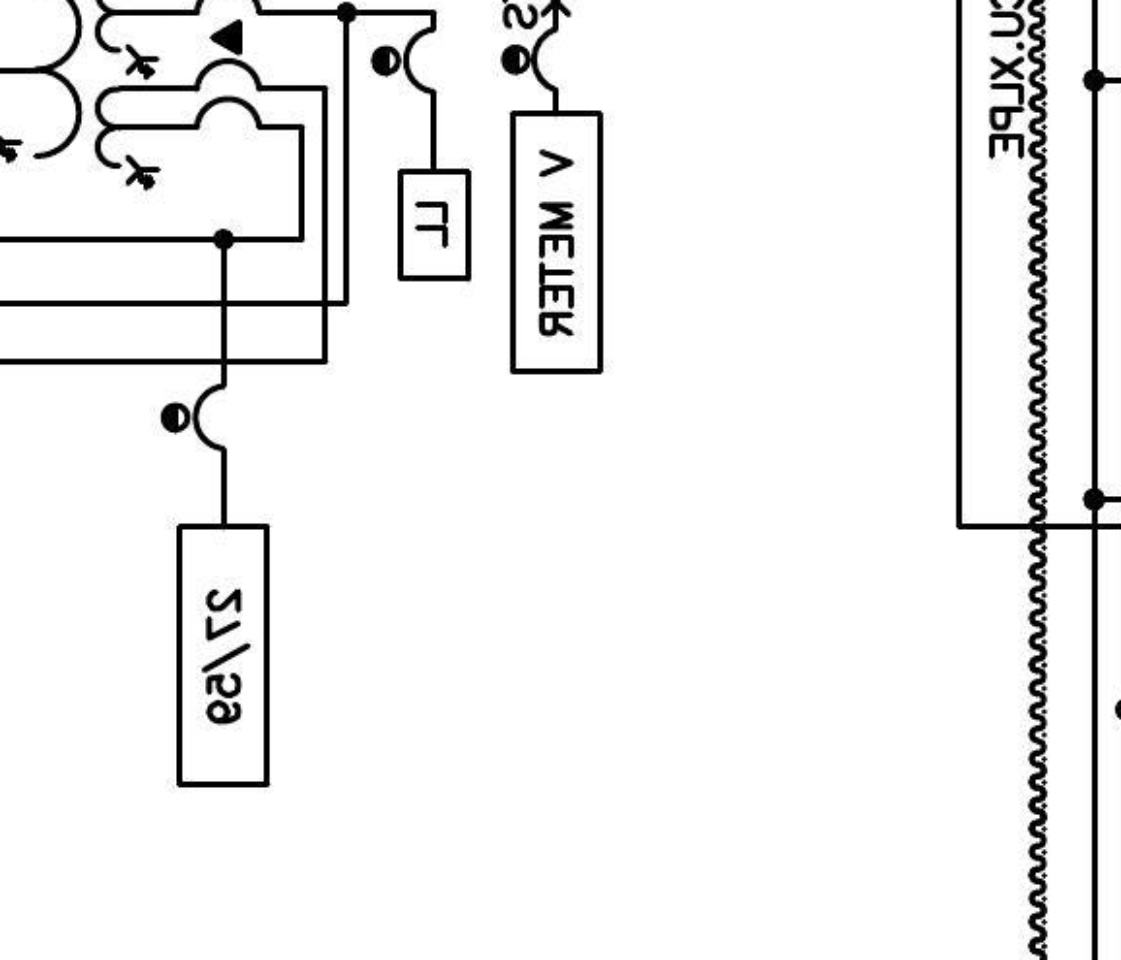LL: (395, 167, 474, 283)
v_m_digital: (508, 108, 605, 376)
